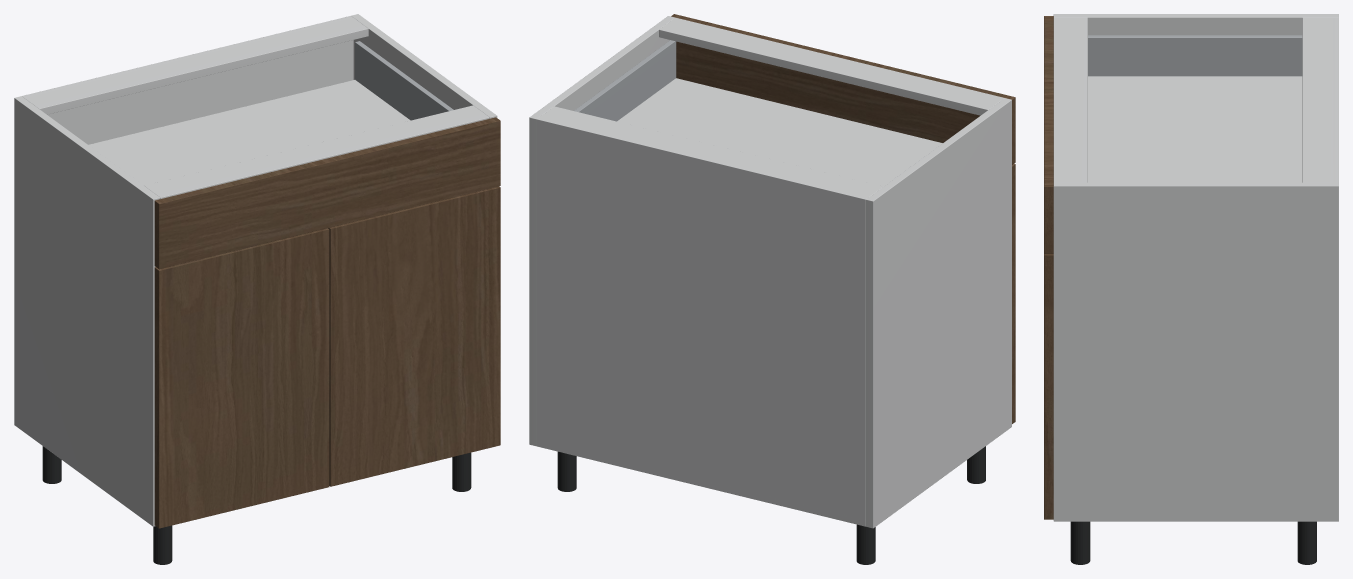
Rendered from oppein-ply-mso-b33.glb.
3 views of the same model, side by side, from view 1: azimuth 30°, elevation 25°; view 2: azimuth 150°, elevation 25°; view 3: azimuth 270°, elevation 25° (orthographic). The views are drawn at different scales.
Parts seen in each view (by area): view 1: Cabinet side, Door, Door.001, Drawer front, Drawer floor, Cabinet back, Top support rail, Top support rail.001, Drawer side.001, Cabinet side.001, Adjustable foot.001, Adjustable foot.003 (+1 smaller); view 2: Cabinet back, Cabinet side, Drawer floor, Drawer front, Top support rail.001, Cabinet side.001, Top support rail, Drawer side.001, Door, Adjustable foot, Adjustable foot.002; view 3: Cabinet side.001, Drawer floor, Drawer side, Top support rail.001, Top support rail, Cabinet side, Door.001, Drawer front, Cabinet back, Adjustable foot.003, Adjustable foot.002.
Boxes of the visible parts, x1=… form: Cabinet side: x1=14, y1=96, x2=160, y2=526; Door: x1=154, y1=228, x2=329, y2=528; Door.001: x1=328, y1=186, x2=500, y2=486; Drawer front: x1=154, y1=117, x2=500, y2=269; Drawer floor: x1=88, y1=80, x2=410, y2=185; Cabinet back: x1=22, y1=16, x2=353, y2=144; Top support rail: x1=24, y1=17, x2=368, y2=114; Top support rail.001: x1=144, y1=105, x2=489, y2=198; Drawer side.001: x1=355, y1=41, x2=453, y2=120; Cabinet side.001: x1=351, y1=14, x2=497, y2=118; Adjustable foot.001: x1=153, y1=525, x2=172, y2=564; Adjustable foot.003: x1=452, y1=452, x2=471, y2=491; Cabinet back: x1=536, y1=117, x2=867, y2=526; Cabinet side: x1=866, y1=98, x2=1011, y2=528; Drawer floor: x1=617, y1=78, x2=942, y2=186; Drawer front: x1=671, y1=14, x2=1015, y2=164; Top support rail.001: x1=659, y1=17, x2=1004, y2=115; Cabinet side.001: x1=529, y1=16, x2=674, y2=446; Top support rail: x1=540, y1=106, x2=883, y2=198; Drawer side.001: x1=574, y1=40, x2=676, y2=121; Door: x1=1012, y1=163, x2=1015, y2=423; Adjustable foot: x1=856, y1=524, x2=875, y2=564; Adjustable foot.002: x1=557, y1=451, x2=576, y2=491; Cabinet side.001: x1=1053, y1=182, x2=1338, y2=521; Drawer floor: x1=1088, y1=76, x2=1302, y2=182; Drawer side: x1=1088, y1=35, x2=1302, y2=76; Top support rail.001: x1=1053, y1=17, x2=1087, y2=182; Top support rail: x1=1302, y1=17, x2=1333, y2=182; Cabinet side: x1=1053, y1=14, x2=1338, y2=35; Door.001: x1=1044, y1=254, x2=1053, y2=519; Drawer front: x1=1044, y1=16, x2=1053, y2=253; Cabinet back: x1=1333, y1=17, x2=1338, y2=182; Adjustable foot.003: x1=1070, y1=521, x2=1090, y2=564; Adjustable foot.002: x1=1297, y1=521, x2=1316, y2=564.
Bounding box in the file's own units: 0.8382 × 0.8763 × 0.6064.
Materials: 4 (1 with a texture image).
